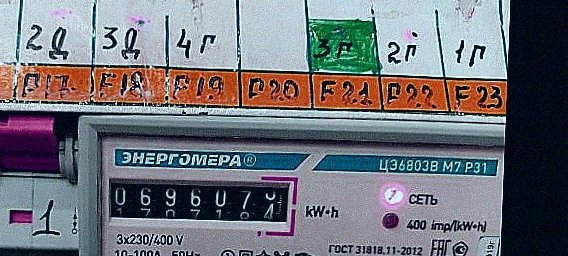0: (212, 185, 228, 207), (112, 184, 127, 205)
4: (262, 200, 276, 221)
6: (137, 184, 152, 205), (187, 186, 202, 206)
7: (237, 188, 253, 209)
9: (162, 185, 176, 206)
screen: (94, 166, 303, 233)
